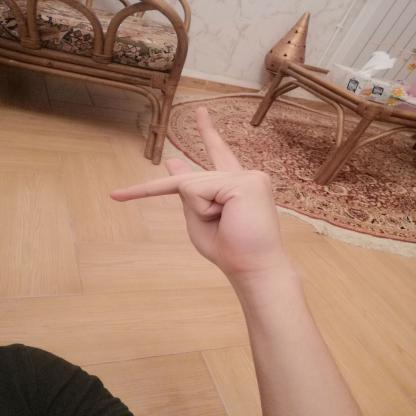DHAA: (100, 99, 298, 283)
